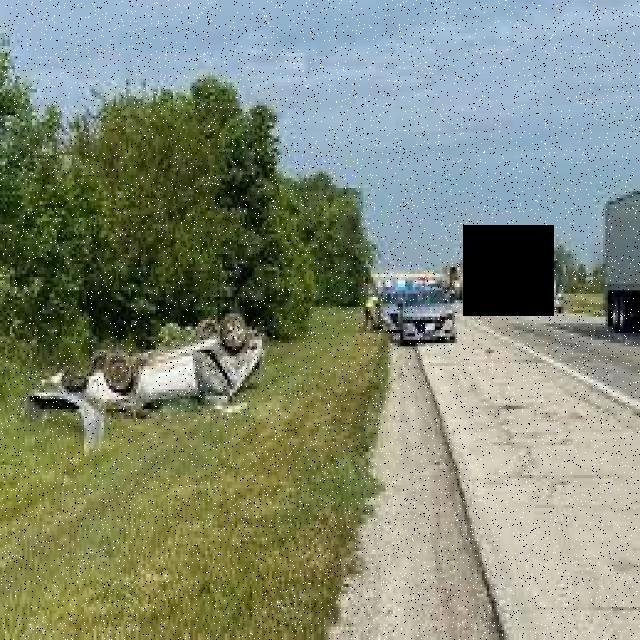severe: (26, 310, 268, 419)
